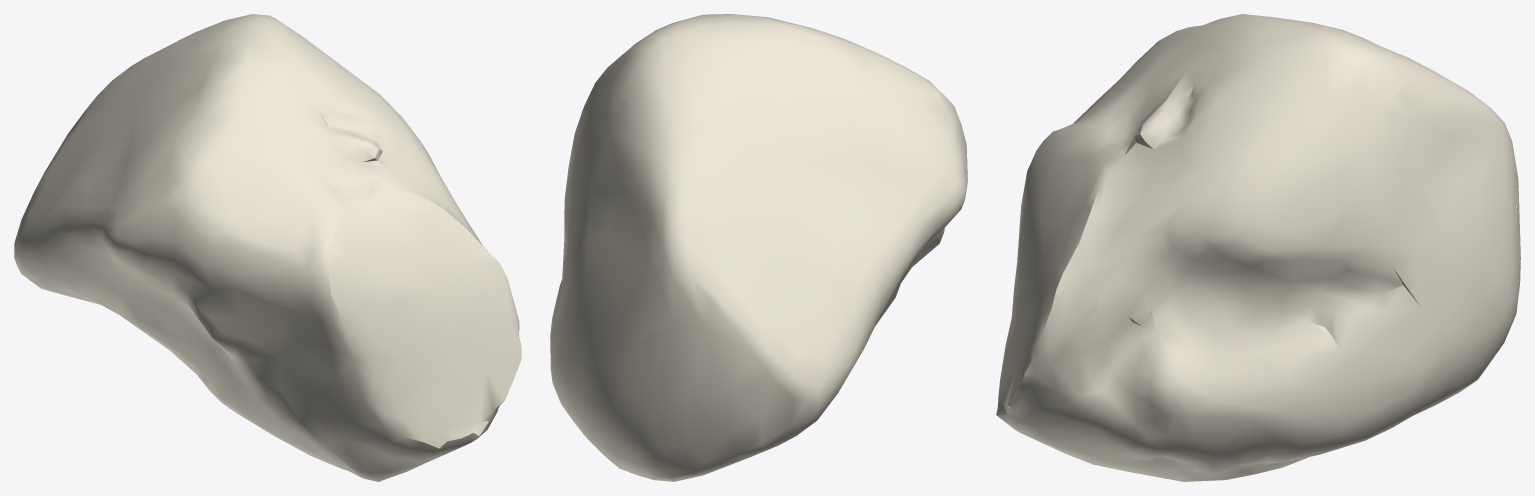
Rendered from fma24439_mm1905.glb.
3 renders of one model, left to right at view 1: azimuth 30°, elevation 25°; view 2: azimuth 150°, elevation 25°; view 3: azimuth 270°, elevation 25°, orthographic. The views are drawn at different scales.
Visible parts, largest first — view 1: FMA24439_MM1905; view 2: FMA24439_MM1905; view 3: FMA24439_MM1905.
Boxes of the visible parts, x1,y1,x2,y2 form: FMA24439_MM1905: [14, 14, 521, 481]; FMA24439_MM1905: [550, 14, 967, 481]; FMA24439_MM1905: [996, 14, 1520, 481].
Size of the model in its own units: 0.0127 by 0.0136 by 0.0154.
